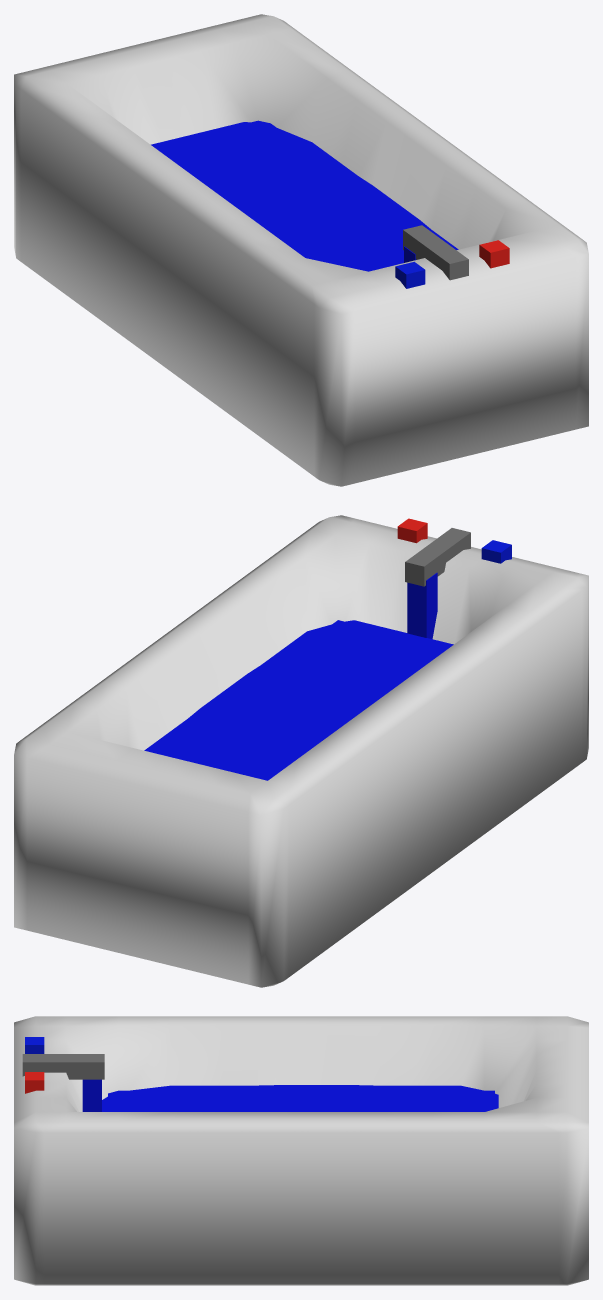
File: bathtub.fbx
3 renders of one model, top to bottom at view 1: azimuth 30°, elevation 25°; view 2: azimuth 150°, elevation 25°; view 3: azimuth 270°, elevation 25°, orthographic. The views are drawn at different scales.
Parts seen in each view (by area): view 1: Cube, Plane, Cube.003, Cube.001, Cube.002; view 2: Cube, Plane, Cube.003, Cube.004, Cube.001; view 3: Cube, Plane, Cube.003, Cube.004, Cube.001.
Boxes of the visible parts, left/top/right/bottom form: Cube: left=14, top=14, right=588, bottom=486; Plane: left=151, top=120, right=458, bottom=271; Cube.003: left=403, top=225, right=468, bottom=280; Cube.001: left=479, top=240, right=509, bottom=268; Cube.002: left=395, top=261, right=425, bottom=288; Cube: left=14, top=515, right=588, bottom=987; Plane: left=144, top=620, right=453, bottom=780; Cube.003: left=405, top=528, right=470, bottom=586; Cube.004: left=407, top=572, right=437, bottom=639; Cube.001: left=397, top=518, right=427, bottom=543; Cube: left=14, top=1016, right=588, bottom=1285; Plane: left=102, top=1085, right=498, bottom=1111; Cube.003: left=22, top=1054, right=104, bottom=1079; Cube.004: left=82, top=1079, right=101, bottom=1111; Cube.001: left=25, top=1072, right=44, bottom=1093.
Size of the model in its own units: 608 by 431 by 1289.
